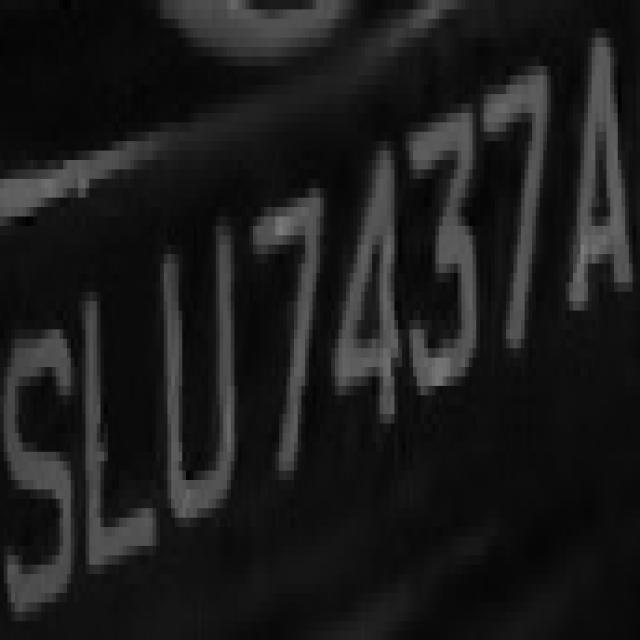3: (394, 66, 476, 395)
4: (324, 94, 420, 452)
7: (465, 29, 555, 376), (245, 142, 328, 490)
A: (558, 0, 640, 358)
L: (74, 254, 164, 584)
S: (11, 292, 75, 630)
U: (156, 216, 250, 546)
